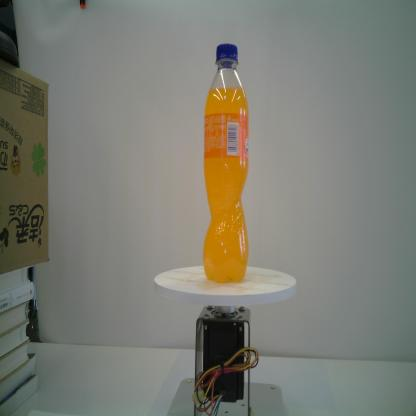Drink: (204, 42, 249, 284)
